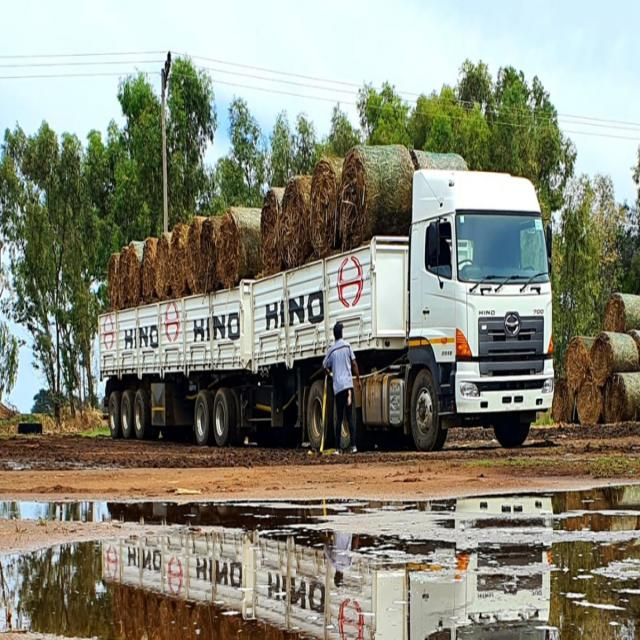Heavy Duty Truck: (101, 172, 561, 454), (322, 321, 362, 460)
